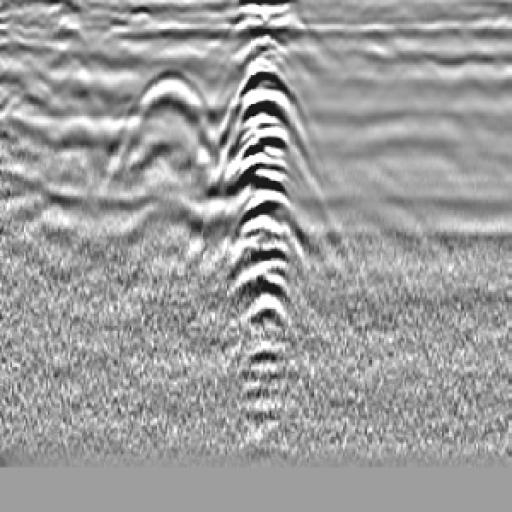metalic: (222, 12, 302, 388)
nonmetalic: (108, 68, 219, 186)
